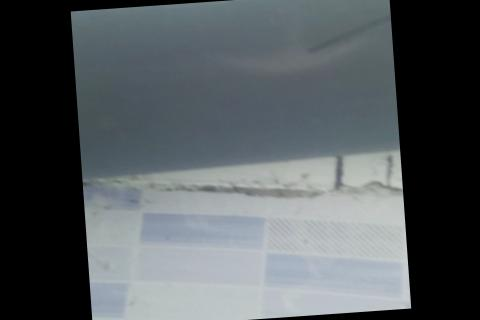keretakan: (303, 8, 393, 57)
